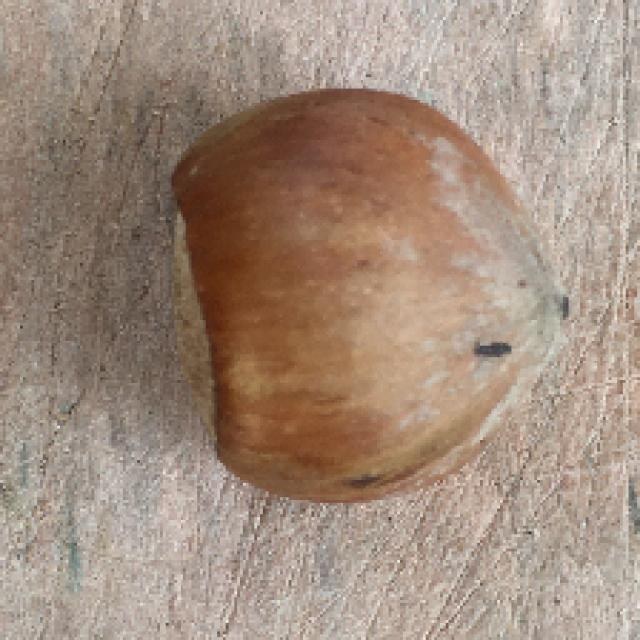qualityHazelnut: (162, 82, 580, 503)
